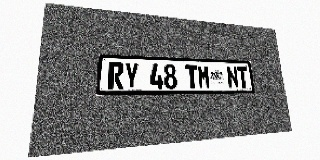4: (150, 63, 164, 89)
8: (164, 64, 177, 89)
M: (197, 65, 211, 89)
N: (226, 66, 239, 88)
R: (108, 62, 124, 89)
T: (185, 65, 199, 89), (237, 66, 249, 88)
Y: (124, 62, 139, 89)
